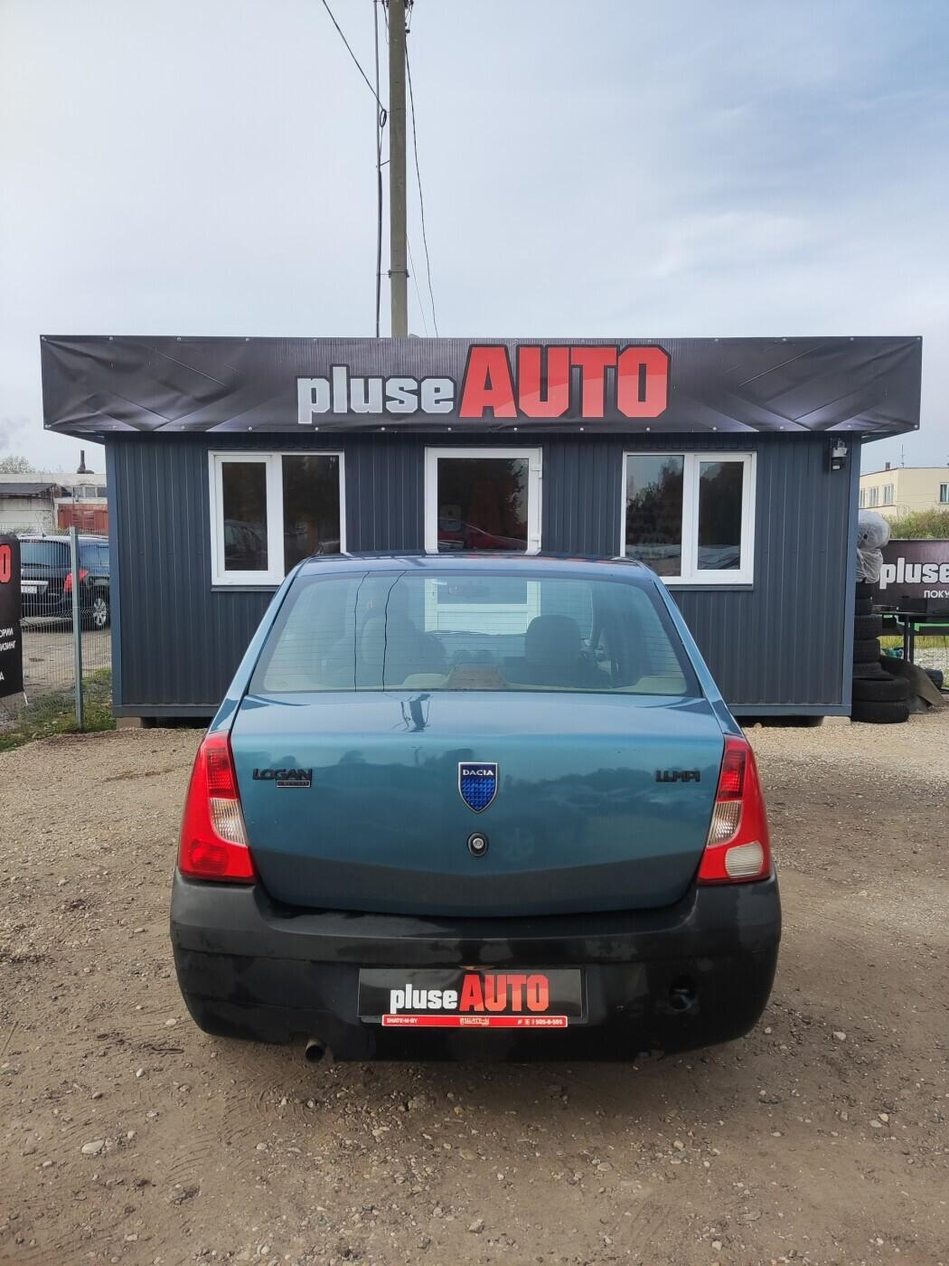Logan_2004-2009: (168, 544, 792, 1072)
